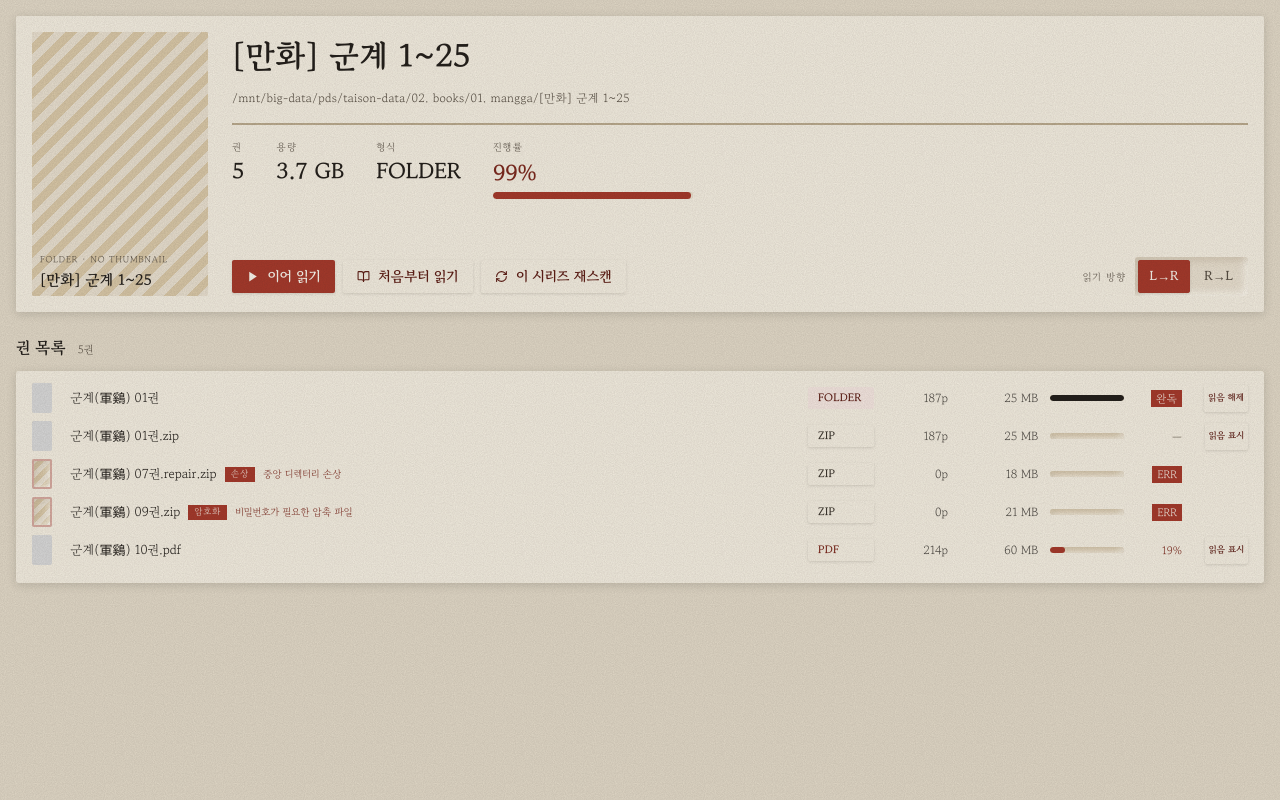
Test: manual read / unread (FR-VWR-012) › re-reads the series so the row flips to 완독 after the PUT lands
expect the heading "[만화] 군계 1~25" is shown: met, box left=232, top=32, right=471, bottom=78
expect the text "—" is shown: met, box left=1172, top=429, right=1182, bottom=444
Click the 1st button "읽음 표시" at (1226, 436), box left=1205, top=423, right=1248, bottom=450
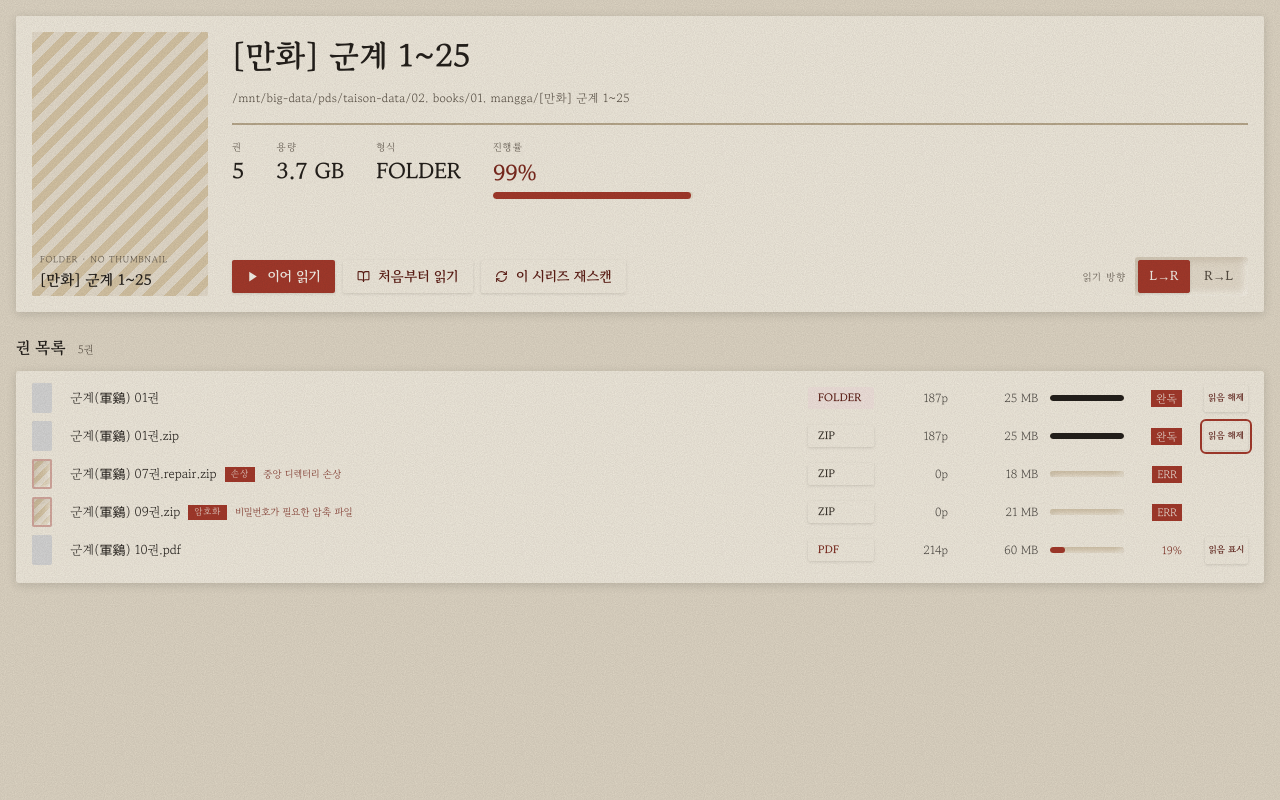
expect the 2nd text "완독" is shown: met, box left=1151, top=428, right=1182, bottom=445
expect the 2nd button "읽음 해제" is shown: met, box left=1204, top=423, right=1248, bottom=450
